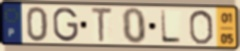0: (119, 7, 149, 46), (26, 5, 50, 43)
G: (52, 6, 80, 43)
L: (159, 9, 183, 45)
O: (188, 9, 215, 46)
T: (90, 6, 115, 44)
